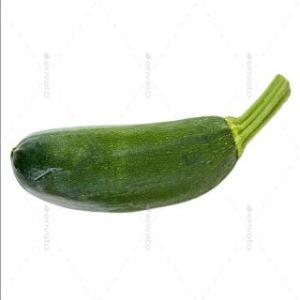zucchini: (16, 77, 262, 238)
